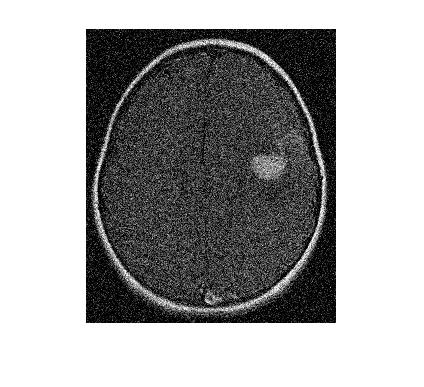Brain_Cancer: (239, 143, 298, 193)
